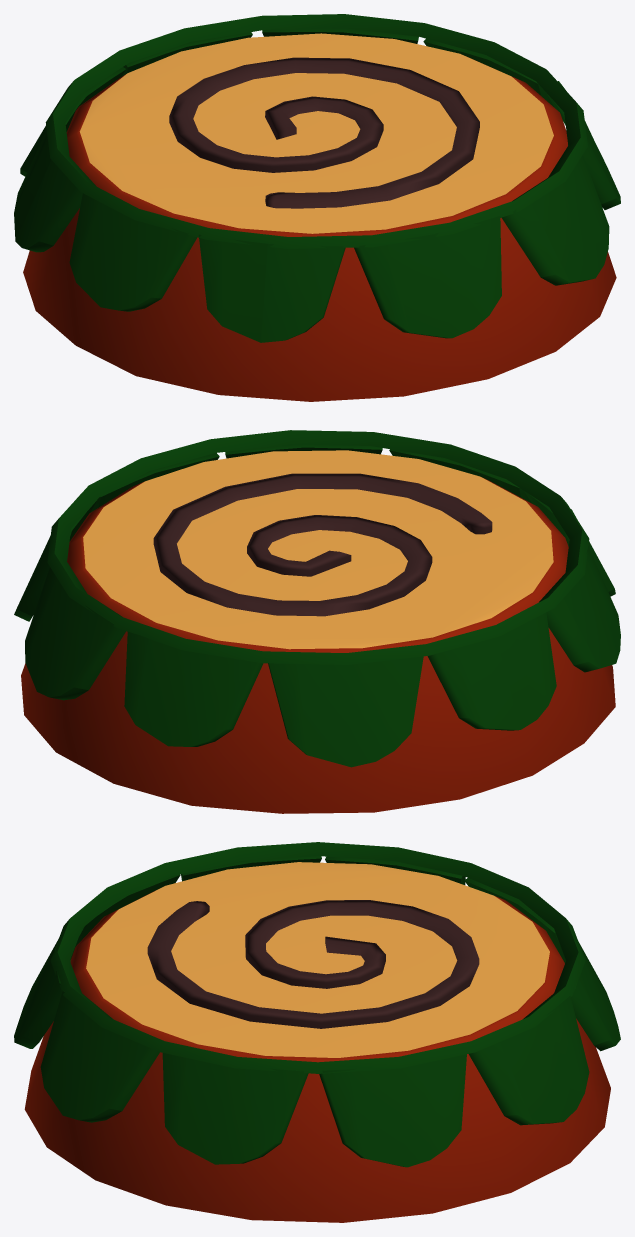
Rendered from CheckpointLow.fbx.
The picture shows the model from 3 angles, top to bottom: view 1: azimuth 30°, elevation 25°; view 2: azimuth 150°, elevation 25°; view 3: azimuth 270°, elevation 25°; orthographic projection.
Parts seen in each view (by area): view 1: Spiral1; view 2: Spiral1; view 3: Spiral1.
Part boxes in pixels (x1,y1,x2,y2): Spiral1: (14,14,620,401); Spiral1: (14,430,620,813); Spiral1: (14,842,620,1222).
Size of the model in its own units: 2.07 by 0.6148 by 2.12.
